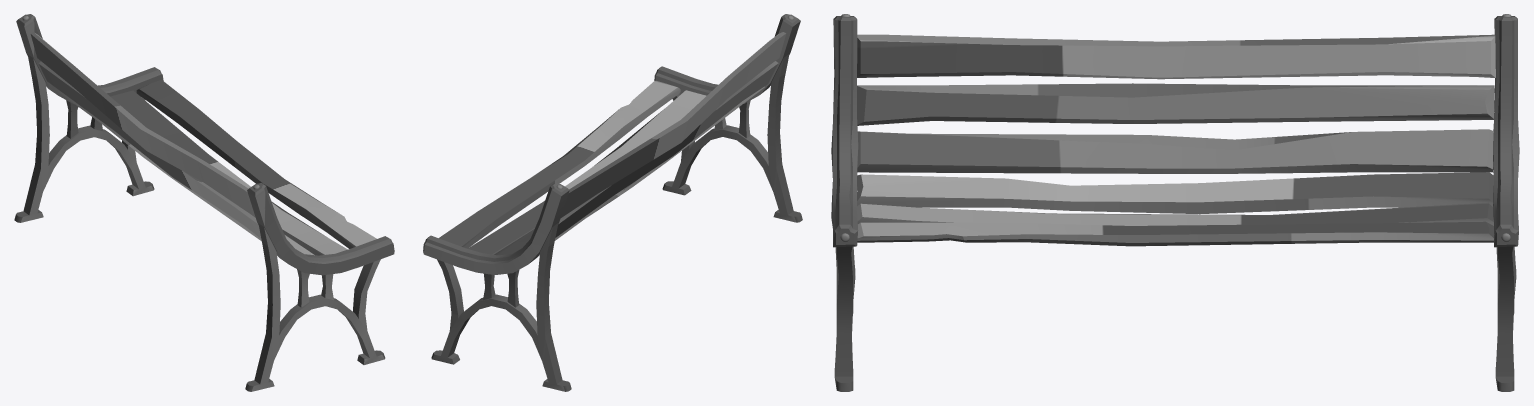
File: SM_banc_low.fbx
3 views of the same model, side by side, from view 1: azimuth 30°, elevation 25°; view 2: azimuth 150°, elevation 25°; view 3: azimuth 270°, elevation 25° (orthographic). The views are drawn at different scales.
Parts seen in each view (by area): view 1: SM_banc_low; view 2: SM_banc_low; view 3: SM_banc_low.
Part boxes in pixels (x1,y1,x2,y2): SM_banc_low: (14,14,394,391); SM_banc_low: (423,14,802,391); SM_banc_low: (831,14,1519,391).
Bounding box in the file's own units: 0.6775 × 0.9004 × 1.94.
Materials: 2 (2 with a texture image).
